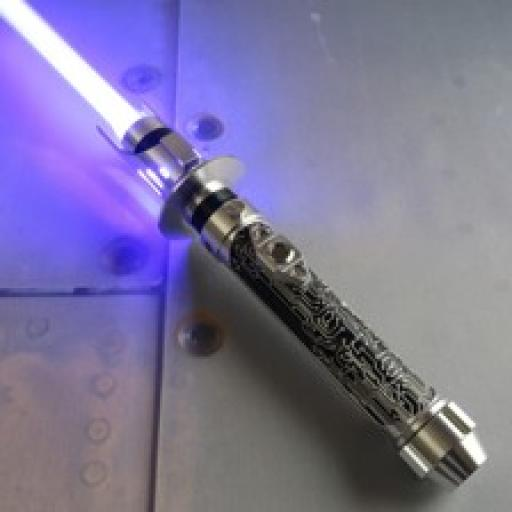lightsaber: (0, 0, 489, 492)
